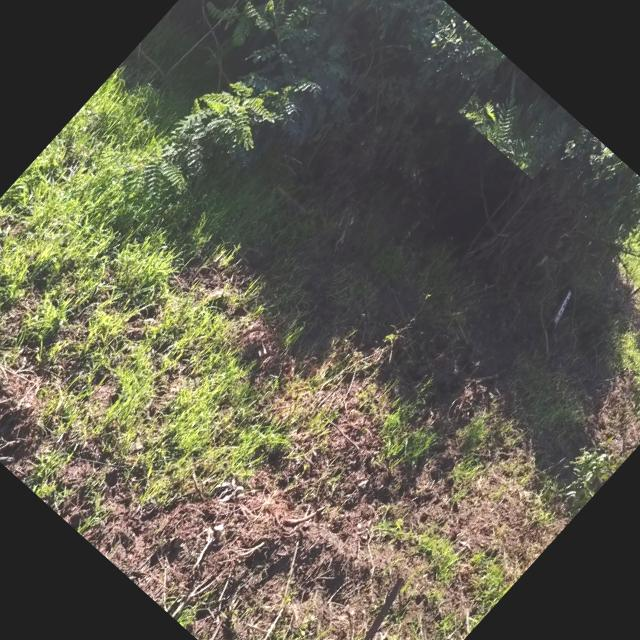Mysore-Thorn-Weed: (114, 34, 323, 253), (186, 0, 368, 109), (456, 56, 581, 180)
